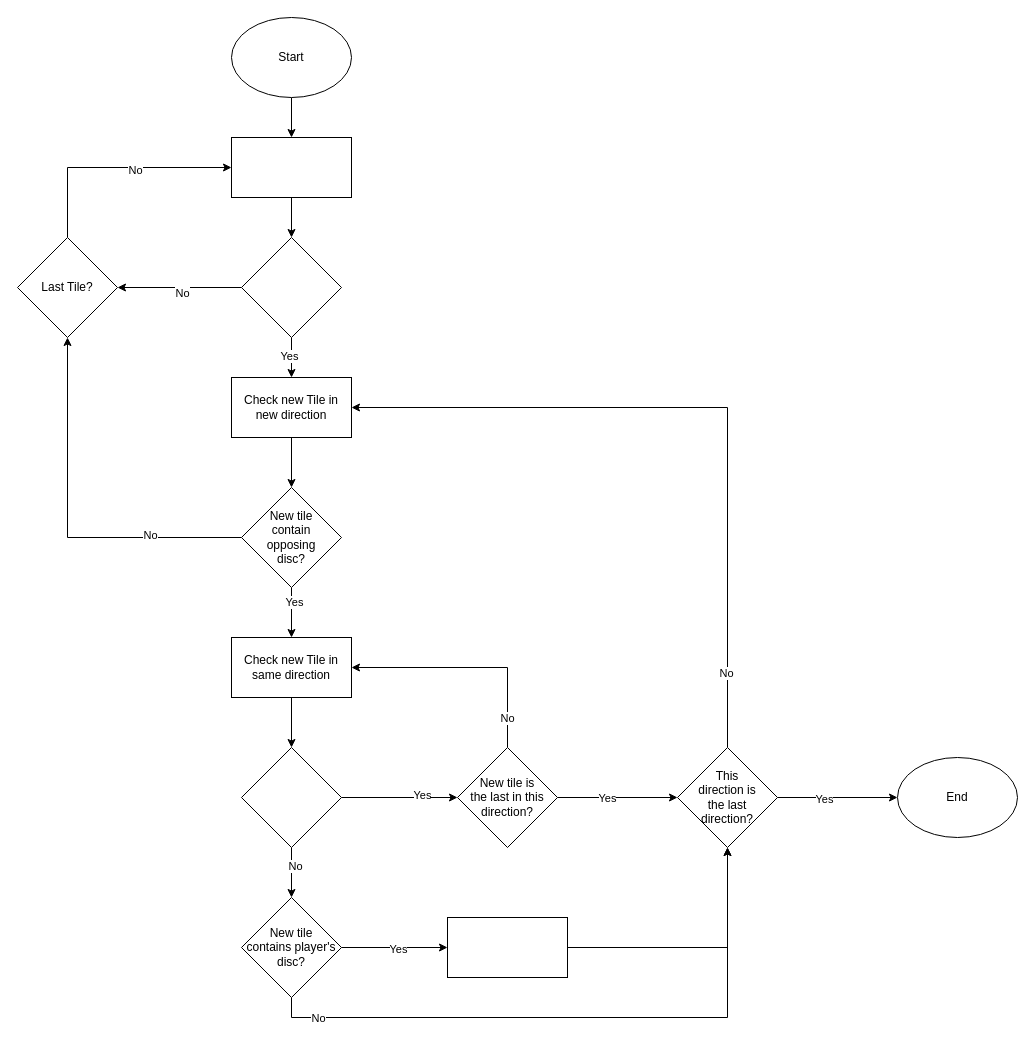
This 1035x1043 diagram has some shape labels left out. Here are the shapes that lost their labels. From the top down, the centre of each, then its label:
At (x=291, y=167): "Get Tile".
At (x=291, y=287): "Tile empty?".
At (x=291, y=797): "New tile contains opposing disc?".
At (x=507, y=947): "Add all opposing discs checked in this direction to flippable discs".
